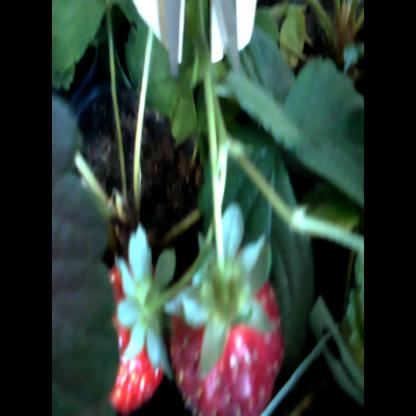ripe: (172, 232, 298, 398), (80, 232, 180, 416)
